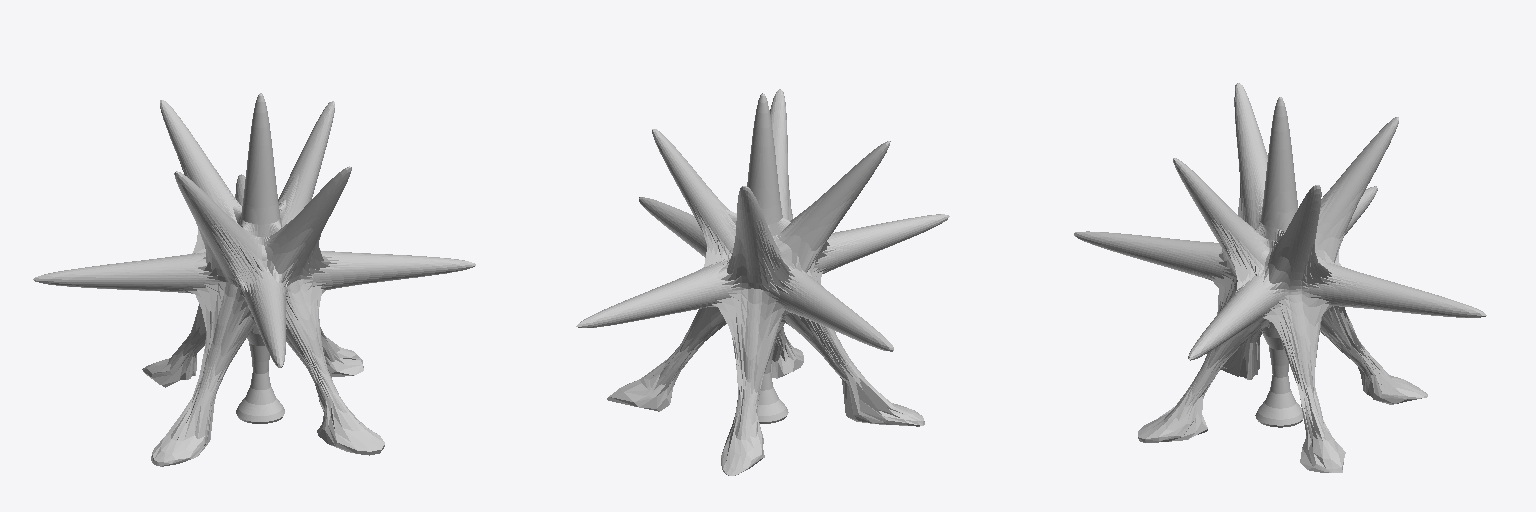
File: bak02.obj
The picture shows the model from 3 angles: view 1: azimuth 30°, elevation 25°; view 2: azimuth 150°, elevation 25°; view 3: azimuth 270°, elevation 25°; orthographic projection.
Visible parts, largest first — view 1: pSphere1; view 2: pSphere1; view 3: pSphere1.
Part boxes in pixels (x1,y1,x2,y2): pSphere1: (33,93,475,466); pSphere1: (576,89,949,475); pSphere1: (1074,83,1486,472).
Bounding box in the file's own units: 9.39 × 8.3 × 9.62.